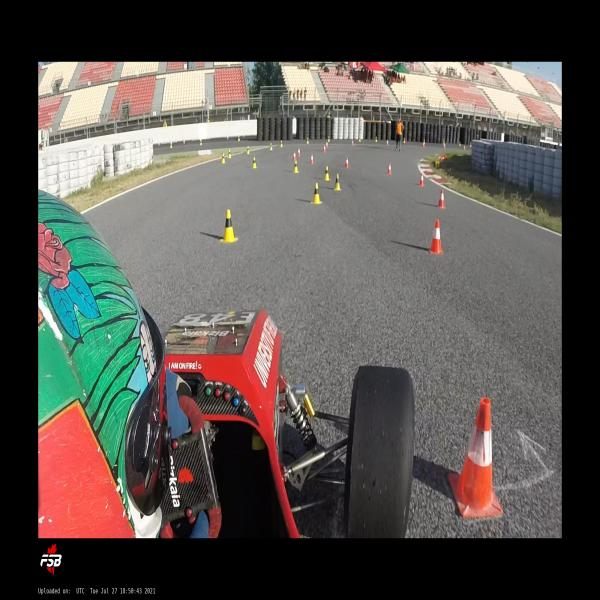orange_cone: (448, 397, 502, 518), (429, 219, 443, 255), (437, 189, 446, 209), (418, 173, 424, 187), (388, 163, 392, 176), (345, 156, 349, 168), (297, 147, 301, 157), (310, 154, 314, 164), (292, 151, 296, 160), (386, 138, 389, 147), (323, 144, 326, 152), (351, 140, 354, 146)
yellow_cone: (219, 209, 238, 243), (311, 182, 321, 204), (333, 173, 341, 191), (324, 165, 330, 181), (251, 157, 258, 169), (294, 160, 298, 174), (220, 153, 225, 164), (228, 149, 232, 159), (246, 145, 250, 155), (269, 142, 273, 150), (280, 140, 283, 148), (306, 136, 309, 144), (327, 135, 330, 143), (375, 135, 377, 143), (359, 136, 361, 142)
